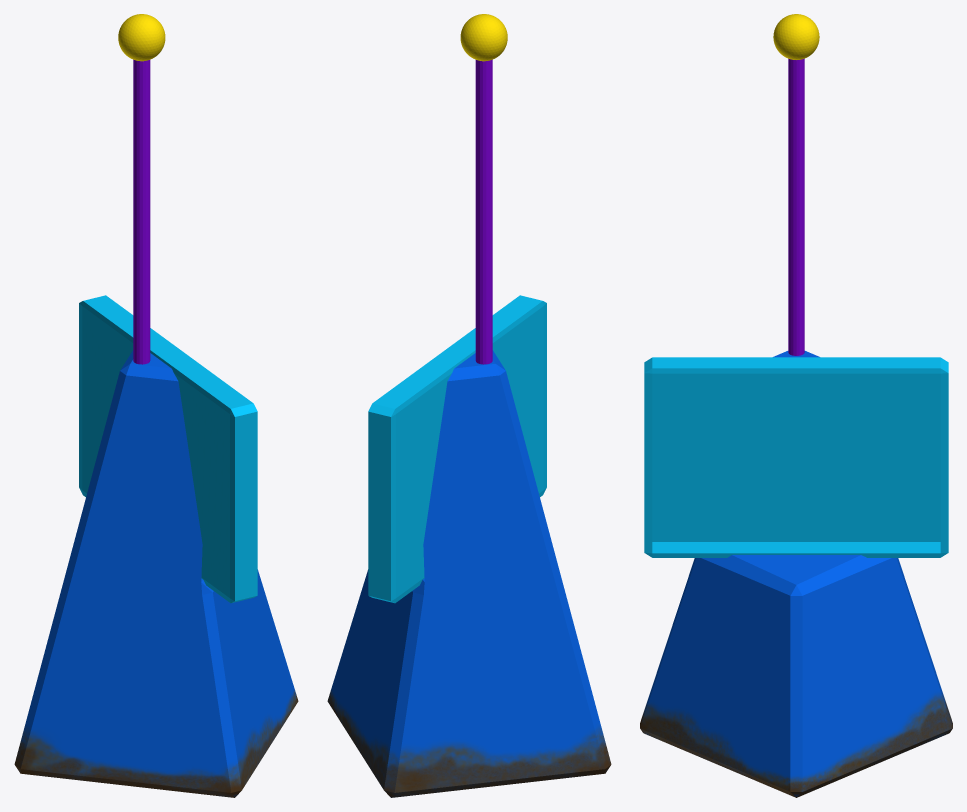
File: waypoint.fbx
3 renders of one model, left to right at view 1: azimuth 30°, elevation 25°; view 2: azimuth 150°, elevation 25°; view 3: azimuth 270°, elevation 25°, orthographic. The views are drawn at different scales.
Visible parts, largest first — view 1: Cone, Cube, Cylinder, Icosphere; view 2: Cone, Cube, Cylinder, Icosphere; view 3: Cube, Cone, Cylinder, Icosphere.
Part boxes in pixels (x1,y1,x2,y2): Cone: [14, 350, 298, 797]; Cube: [79, 295, 257, 603]; Cylinder: [133, 59, 150, 364]; Icosphere: [118, 14, 165, 61]; Cone: [327, 350, 611, 797]; Cube: [368, 295, 546, 603]; Cylinder: [475, 59, 492, 364]; Icosphere: [460, 14, 507, 61]; Cube: [644, 357, 948, 557]; Cone: [640, 351, 952, 797]; Cylinder: [788, 58, 804, 355]; Icosphere: [773, 14, 819, 59].
Bounding box in the file's own units: 190 × 475 × 190.
Materials: 4 (1 with a texture image).
